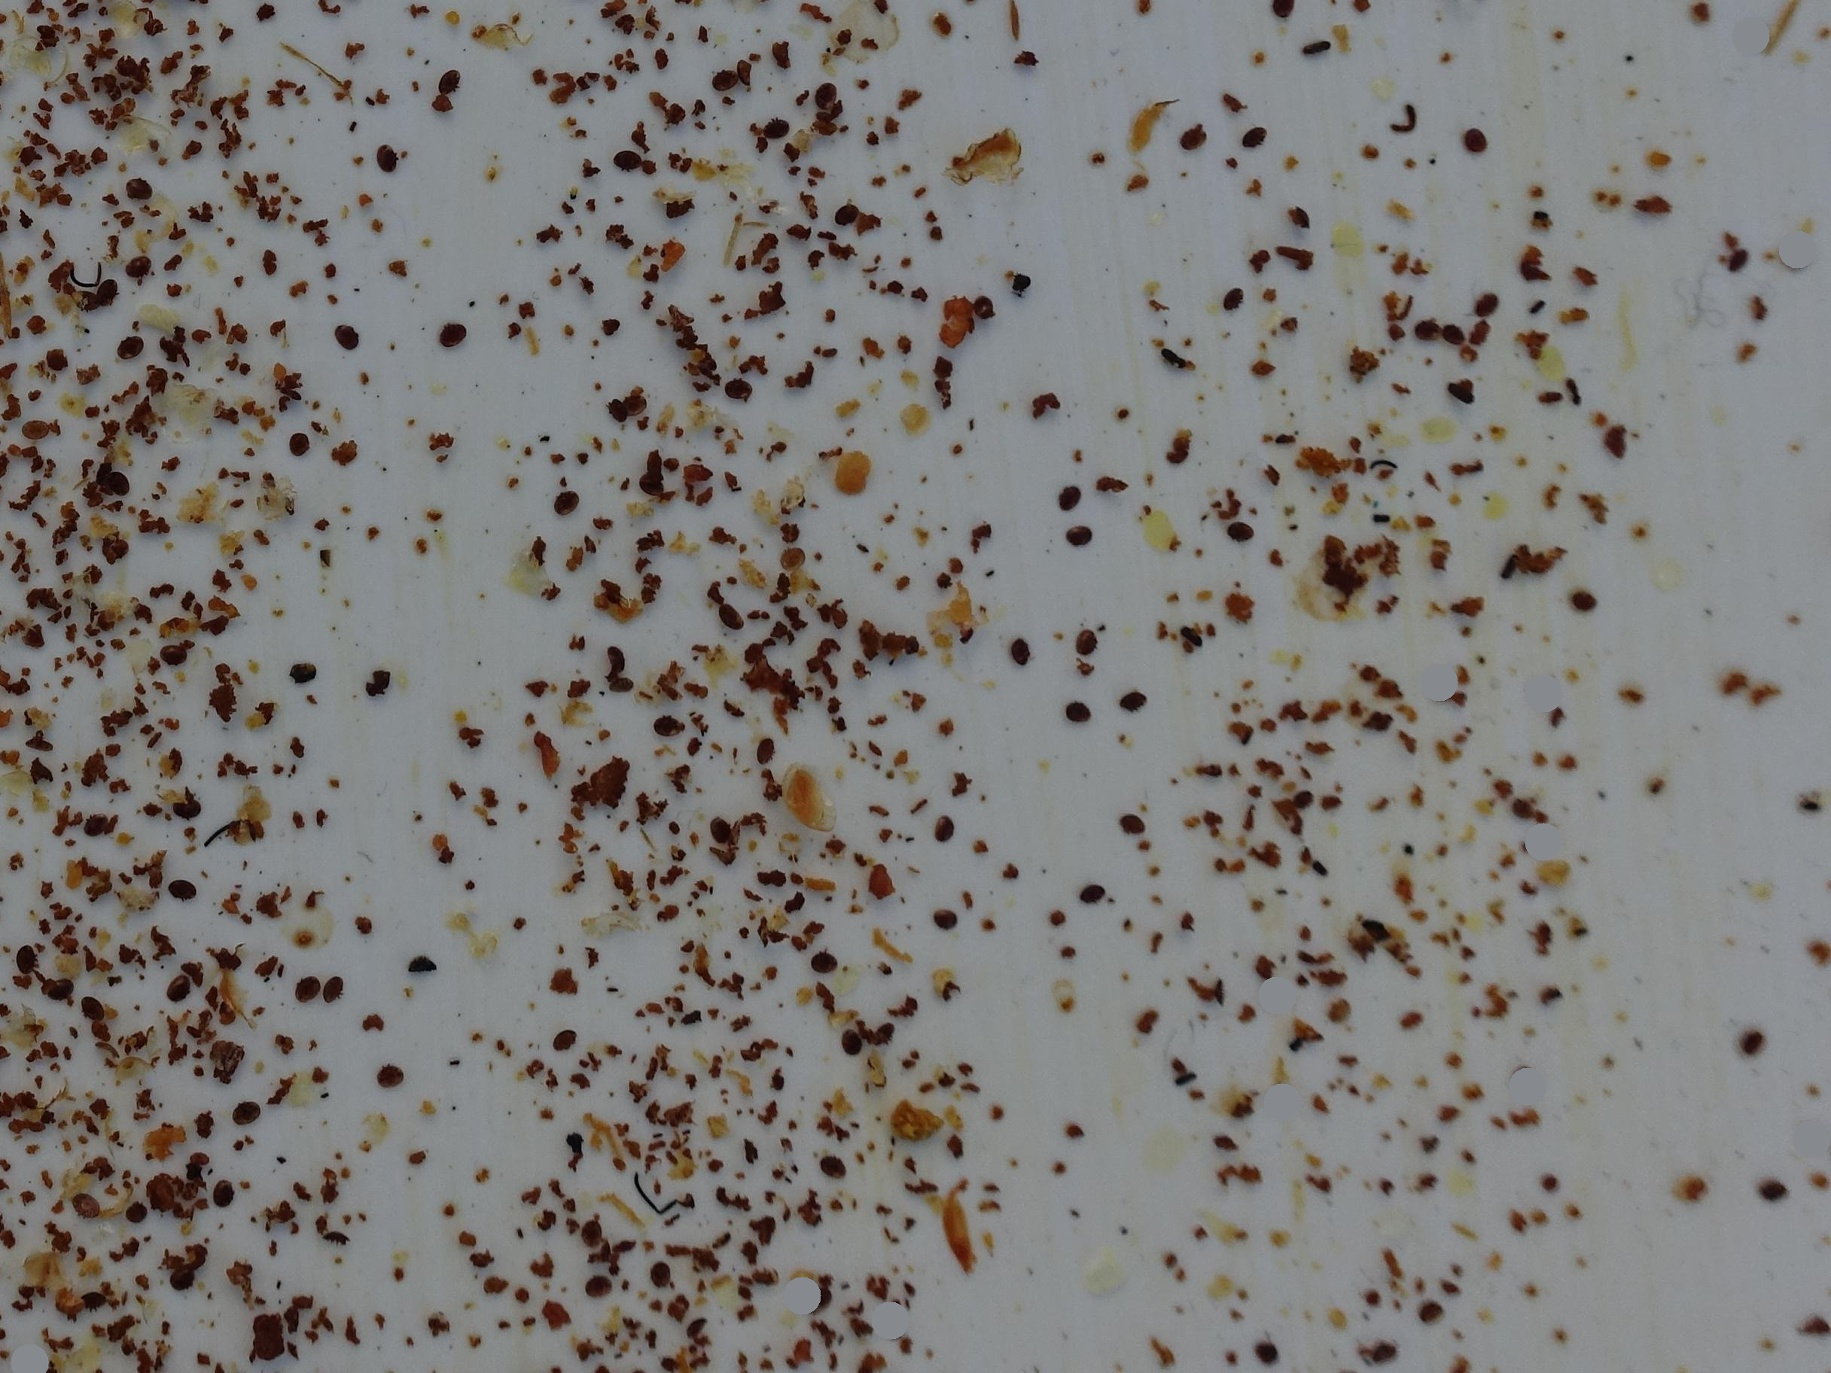Varroa: (317, 1219, 355, 1258), (633, 467, 670, 505), (866, 1018, 904, 1056), (608, 391, 637, 420), (779, 547, 806, 574), (102, 532, 128, 560), (102, 467, 128, 495), (95, 271, 121, 299), (435, 74, 461, 100), (616, 143, 642, 169), (319, 974, 345, 999), (74, 992, 98, 1020), (53, 975, 78, 1002), (1120, 686, 1145, 714), (82, 811, 107, 836), (750, 730, 776, 754), (815, 88, 839, 114), (1426, 317, 1450, 343), (128, 260, 151, 287), (835, 202, 859, 226), (82, 1286, 107, 1311), (19, 414, 43, 438), (1481, 286, 1505, 310), (71, 1191, 94, 1217), (584, 1273, 607, 1298), (704, 812, 727, 836), (118, 332, 141, 356), (763, 108, 786, 133), (712, 74, 735, 98), (10, 940, 35, 963), (123, 1198, 146, 1223), (580, 1219, 603, 1243), (376, 1059, 401, 1082), (180, 796, 203, 821), (1008, 640, 1031, 665), (1065, 699, 1089, 723), (164, 636, 187, 659), (169, 875, 192, 899), (297, 974, 320, 997), (1055, 482, 1078, 505), (717, 601, 740, 624), (170, 1259, 192, 1284), (125, 173, 147, 198), (724, 376, 745, 399), (235, 1100, 257, 1123), (554, 1028, 575, 1051), (554, 490, 575, 513), (931, 816, 953, 839), (1243, 128, 1264, 151), (1063, 518, 1083, 542), (444, 322, 466, 343), (212, 1180, 234, 1201), (934, 906, 956, 927), (1230, 524, 1251, 545), (655, 714, 676, 736), (167, 975, 187, 998), (1220, 286, 1241, 306), (334, 326, 355, 348), (1074, 632, 1094, 653), (820, 1161, 841, 1183), (293, 430, 313, 451), (1123, 812, 1143, 834), (842, 1028, 861, 1051), (813, 948, 833, 968), (1463, 125, 1484, 146), (1081, 883, 1101, 903), (1179, 125, 1200, 146), (652, 1262, 670, 1284), (382, 150, 399, 170)
